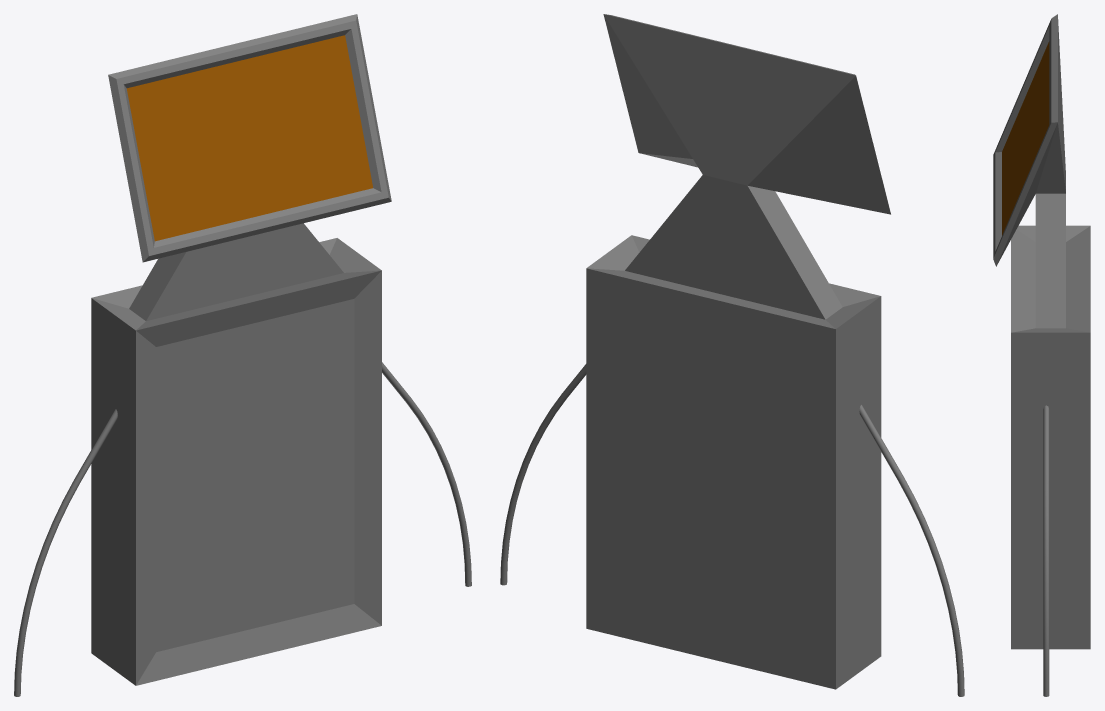
Rendered from computadora.fbx.
The picture shows the model from 3 angles, left to right: view 1: azimuth 30°, elevation 25°; view 2: azimuth 150°, elevation 25°; view 3: azimuth 270°, elevation 25°; orthographic projection. The views are drawn at different scales.
Parts seen in each view (by area): view 1: Computadora; view 2: Computadora; view 3: Computadora.
Part boxes in pixels (x1,y1,x2,y2): Computadora: [14, 14, 471, 696]; Computadora: [500, 14, 964, 696]; Computadora: [993, 14, 1090, 696].
Size of the model in its own units: 62.97 by 77.95 by 13.05.
